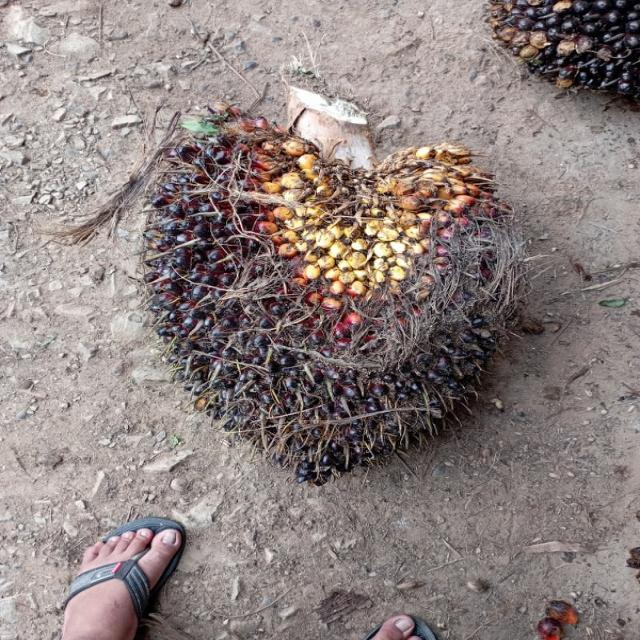fraksi 00: (131, 102, 530, 476)
